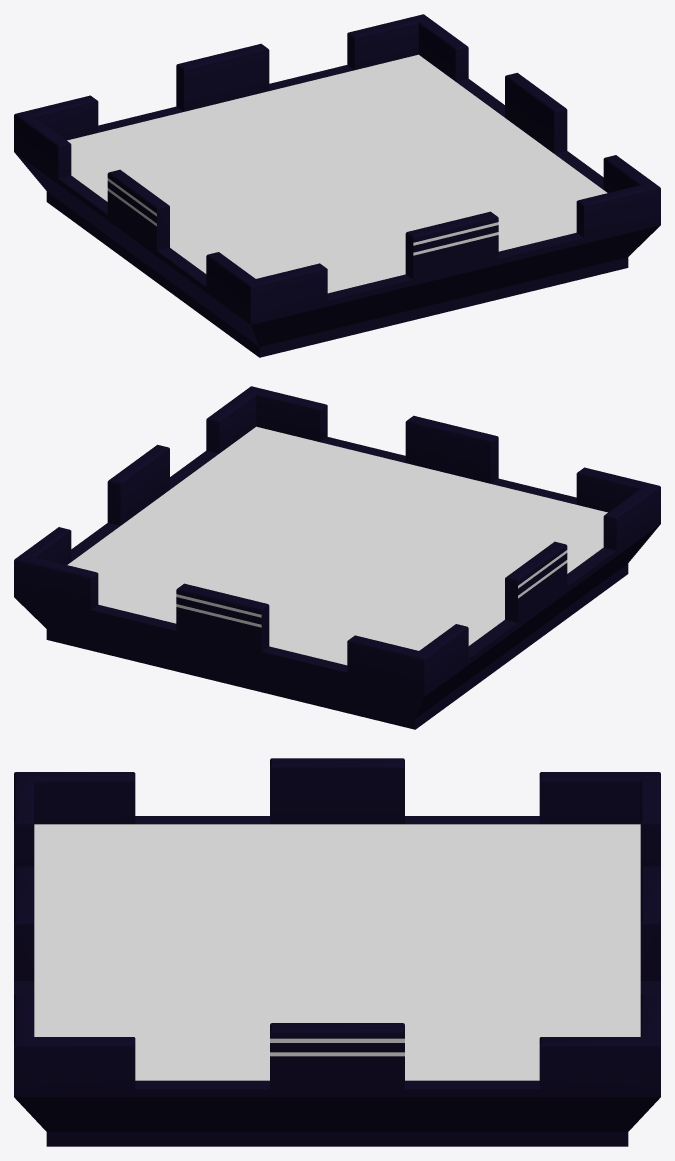
3 views of the same model, one above another, from view 1: azimuth 30°, elevation 25°; view 2: azimuth 150°, elevation 25°; view 3: azimuth 270°, elevation 25° (orthographic). The views are drawn at different scales.
Visible parts, largest first — view 1: BASE 1X1; view 2: BASE 1X1; view 3: BASE 1X1.
Part boxes in pixels (x1,y1,x2,y2): BASE 1X1: [14, 14, 660, 357]; BASE 1X1: [14, 386, 660, 729]; BASE 1X1: [14, 758, 660, 1146].
Bounding box in the file's own units: 16 × 3.54 × 16.
